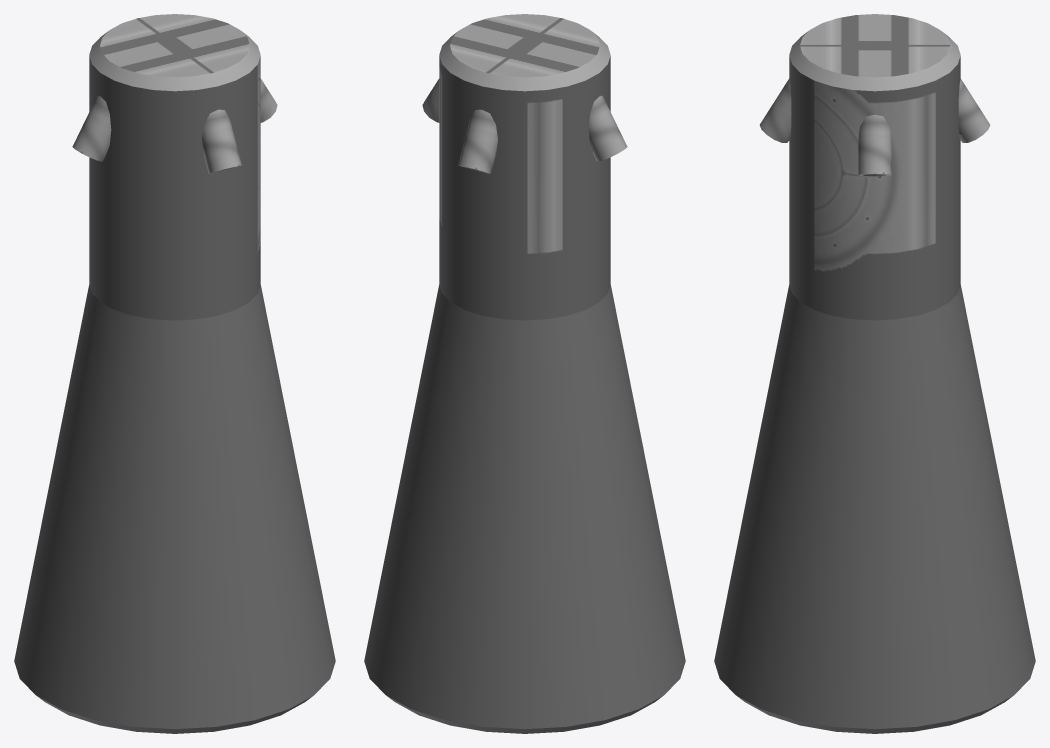
The model's file is Alnair_Engine_1.obj.
The picture shows the model from 3 angles, left to right: view 1: azimuth 30°, elevation 25°; view 2: azimuth 150°, elevation 25°; view 3: azimuth 270°, elevation 25°; orthographic projection.
Parts seen in each view (by area): view 1: Alnair_Engine_1; view 2: Alnair_Engine_1; view 3: Alnair_Engine_1.
Boxes of the visible parts, <box> form: Alnair_Engine_1: <box>14,14,335,733</box>; Alnair_Engine_1: <box>364,14,685,733</box>; Alnair_Engine_1: <box>714,14,1035,733</box>.
Bounding box in the file's own units: 0.9375 × 2.01 × 0.9375.
